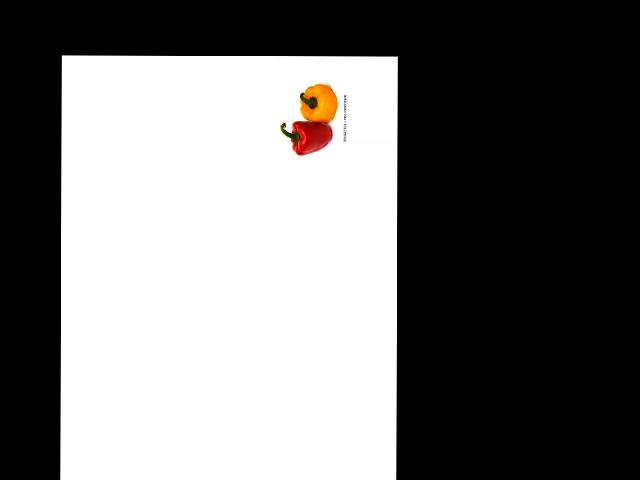bell_pepper: (296, 82, 341, 124)
